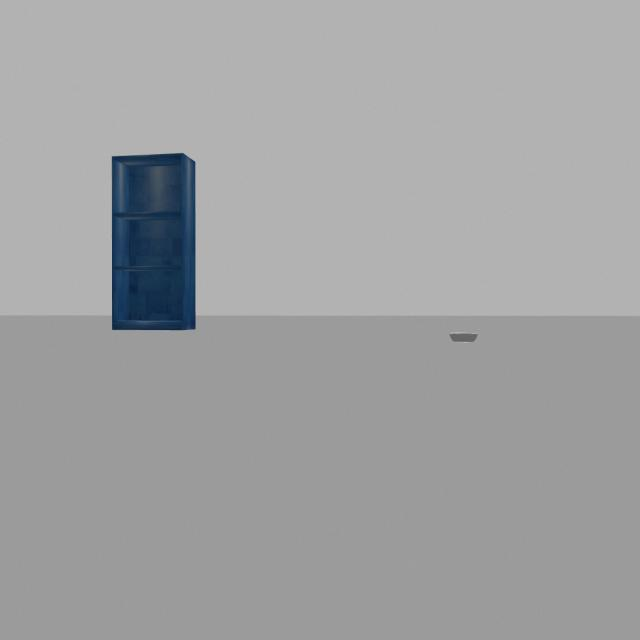bowl: (444, 320, 484, 350)
shelf: (105, 143, 202, 337)
